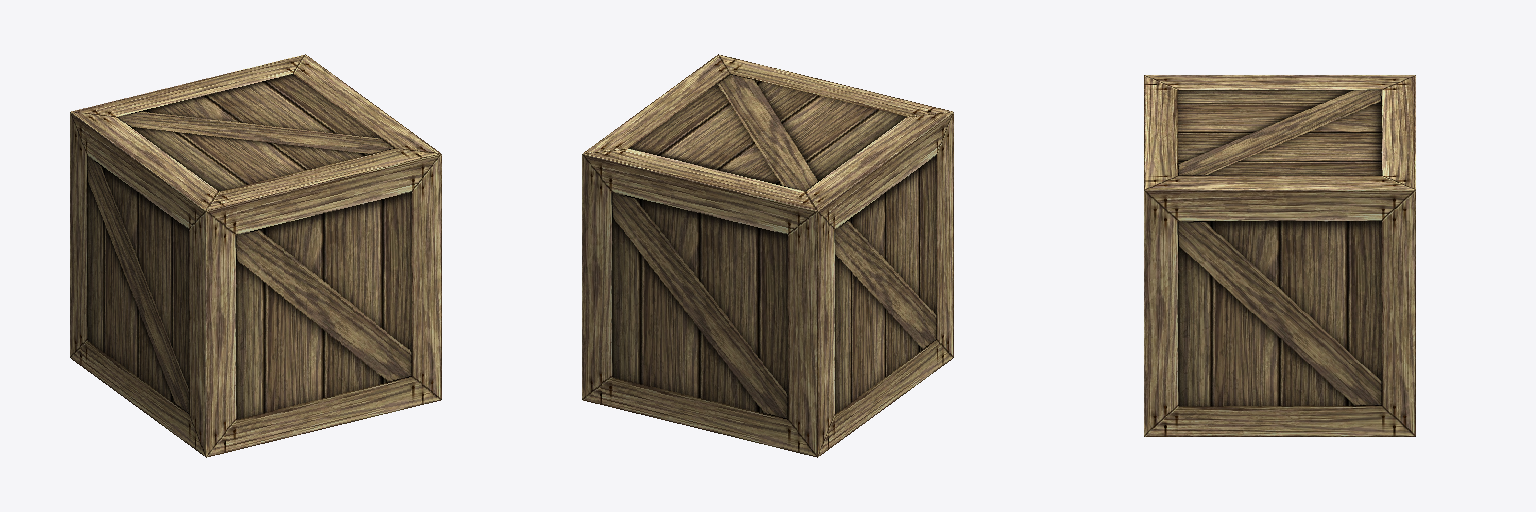
3 views of the same model, side by side, from view 1: azimuth 30°, elevation 25°; view 2: azimuth 150°, elevation 25°; view 3: azimuth 270°, elevation 25° (orthographic).
Parts seen in each view (by area): view 1: Box001; view 2: Box001; view 3: Box001.
Part boxes in pixels (x1,y1,x2,y2): Box001: (70, 54, 441, 457); Box001: (582, 54, 953, 457); Box001: (1144, 75, 1415, 436).
Size of the model in its own units: 1.68 by 1.68 by 1.68.
Materials: 1 (1 with a texture image).